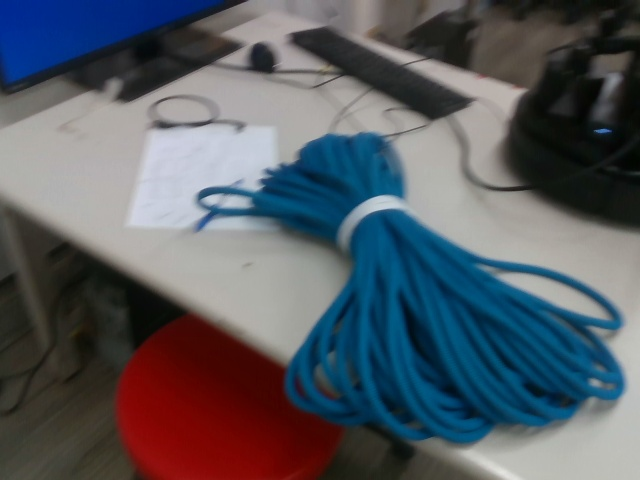rope: (189, 127, 636, 448)
